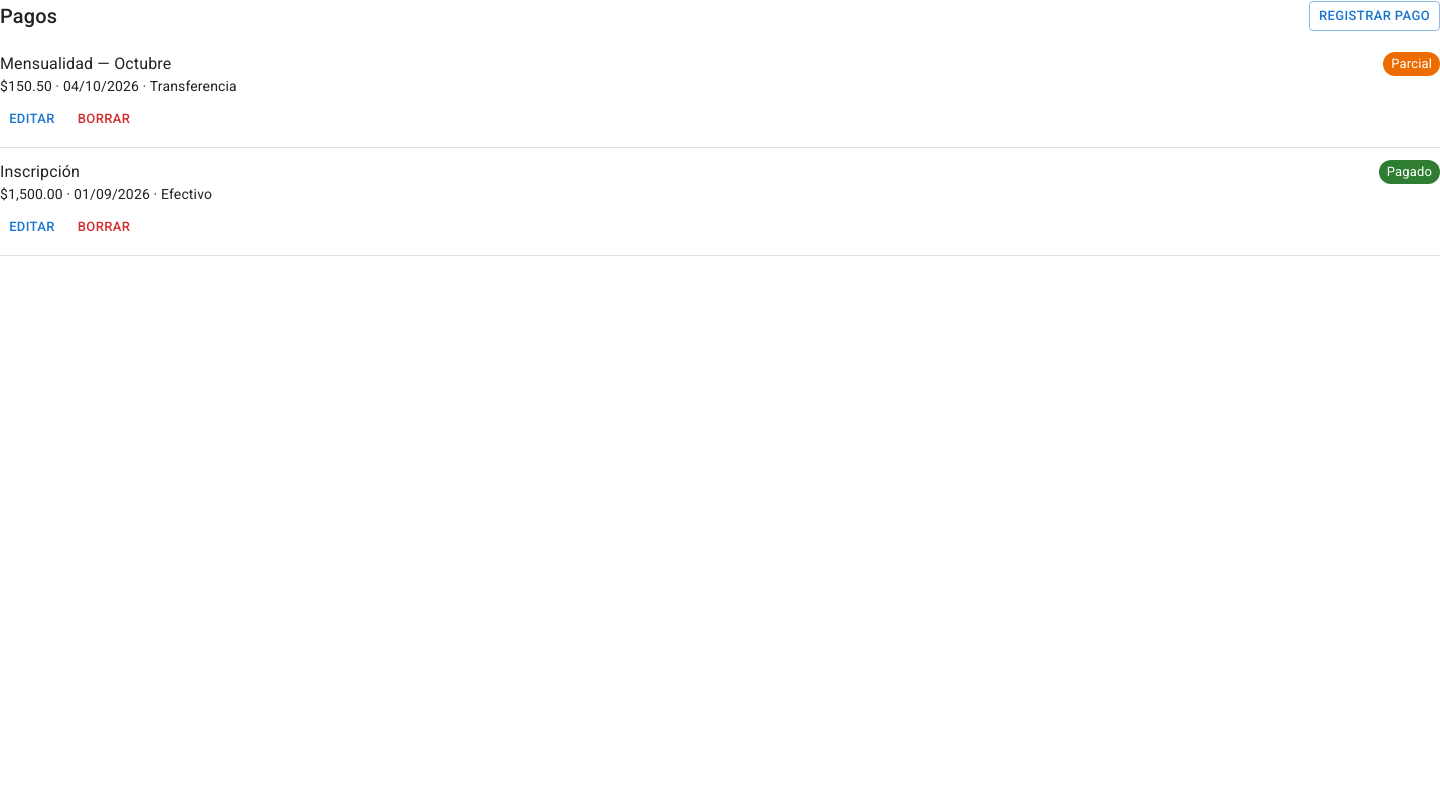
a failed delete shows an inline alert and closes the confirmation
Click the button "Borrar" below "Mensualidad — Octubre": {"x": 104, "y": 119} [72,104,136,135]
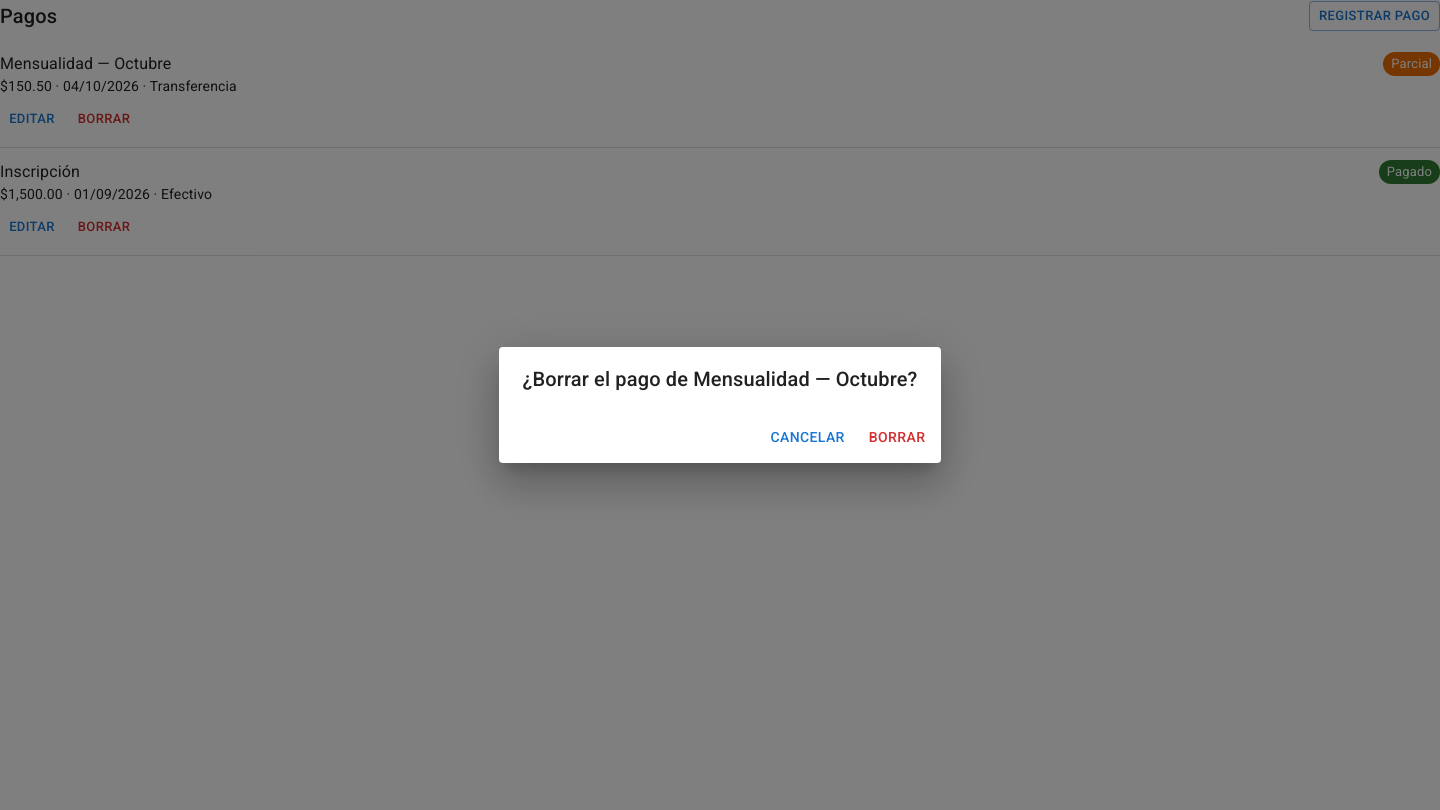
Click the button "Borrar": {"x": 897, "y": 437} [861,419,933,455]
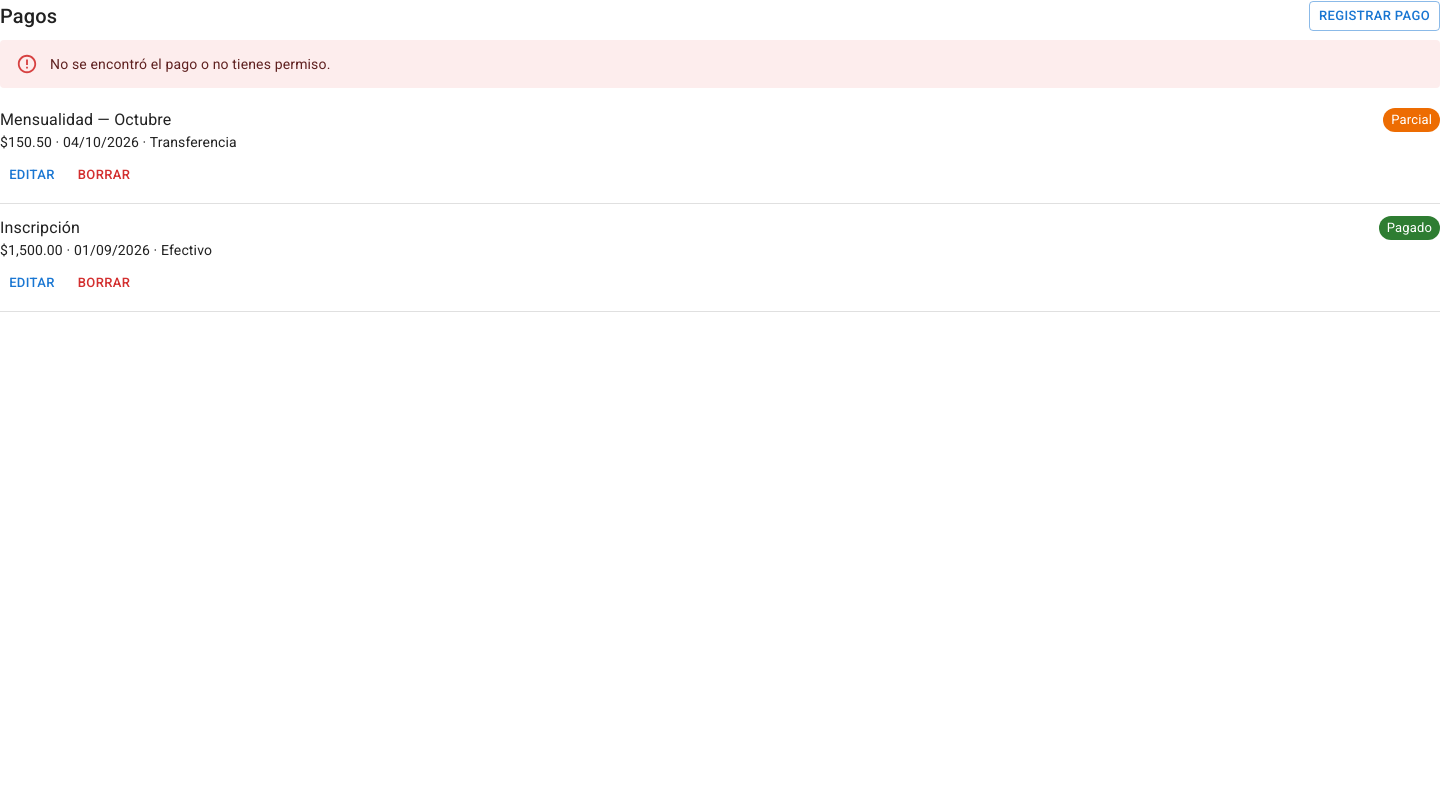
Expected: the message reads "No se encontró el pago o no tienes permiso.", [50,56,330,72]
Expected: the dialog is gone
